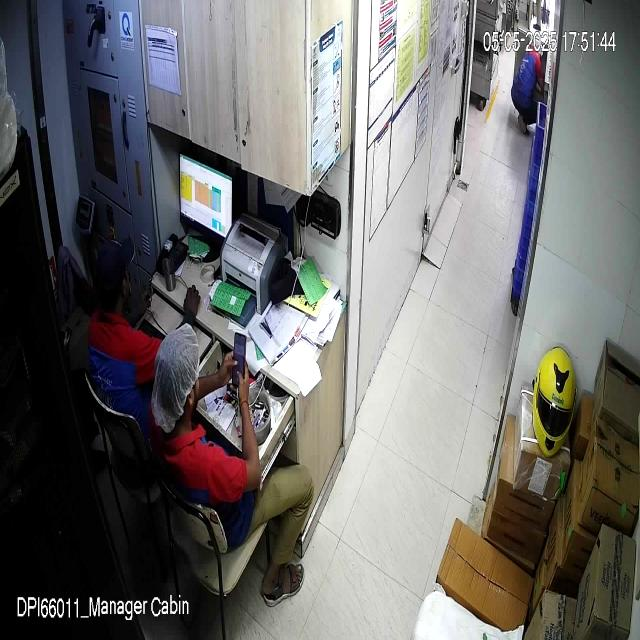helmet: (531, 346, 577, 461)
